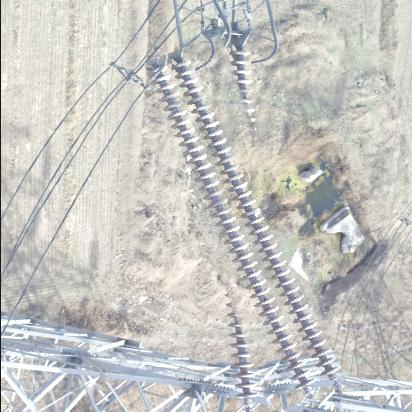insulator: (175, 37, 318, 412)
